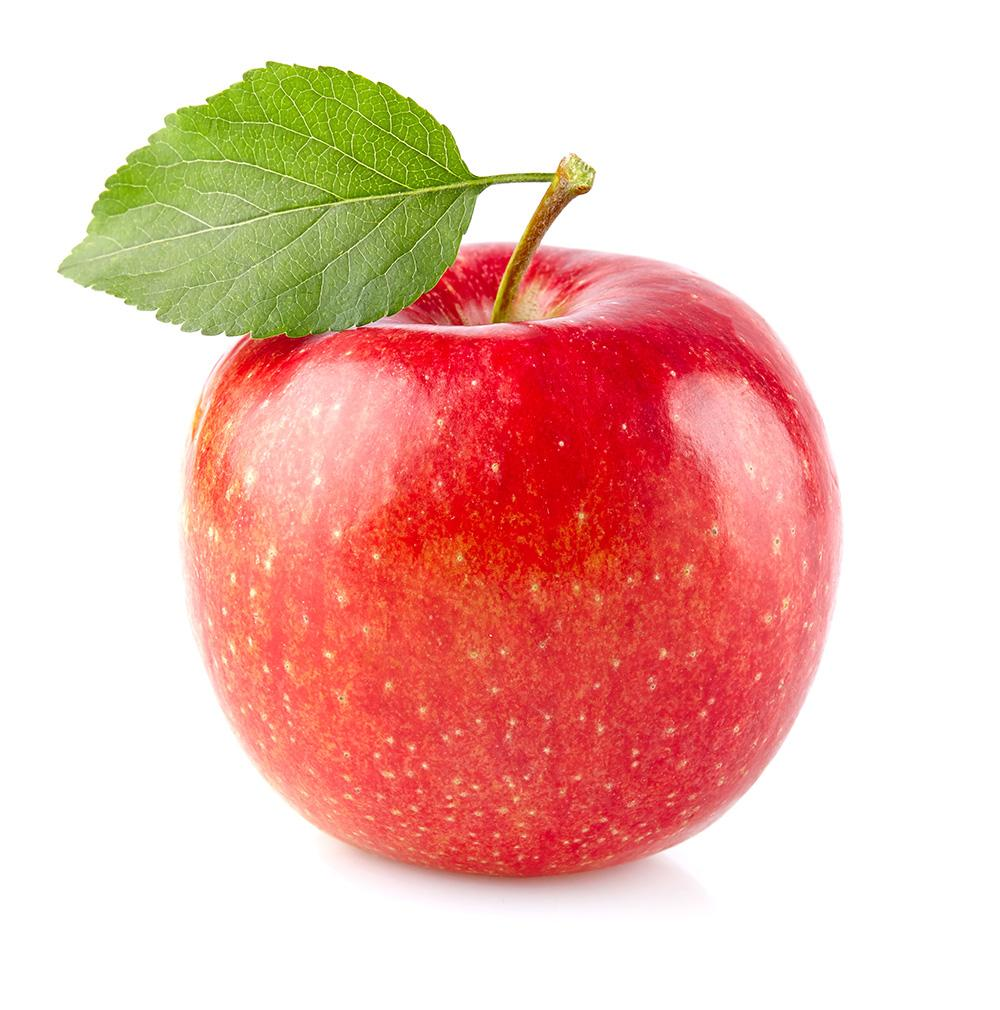Apple: (96, 142, 925, 901)
